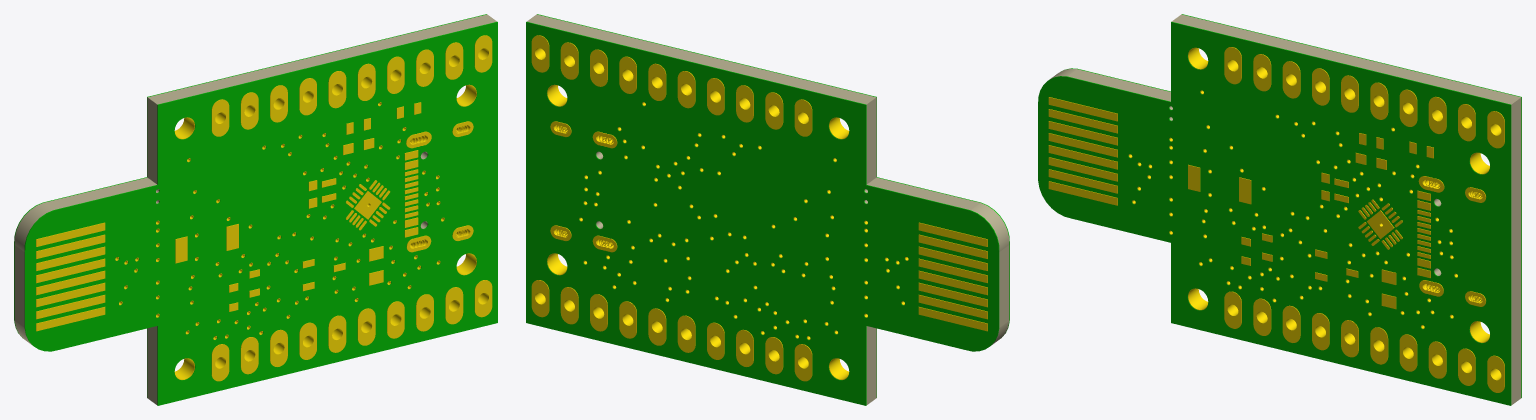
3 renders of one model, left to right at view 1: azimuth 30°, elevation 25°; view 2: azimuth 150°, elevation 25°; view 3: azimuth 330°, elevation 25°, orthographic.
Parts seen in each view (by area): view 1: Body1:2, Body3, Body2, Board, CopperHoles, Body1:3, Body1, Body4; view 2: Body1:3, Body2:1, Board, Body6, CopperHoles, Body1:2, Body1:1, Body4:1; view 3: Body1:2, Body3, Body2, Board, CopperHoles, Body1:3, Body1, Body4.
Boxes of the visible parts, x1,y1,x2,y2 form: Body1:2: [24, 21, 497, 405]; Body3: [211, 35, 492, 381]; Body2: [36, 102, 473, 331]; Board: [14, 14, 496, 404]; CopperHoles: [115, 48, 488, 379]; Body1:3: [14, 14, 486, 397]; Body1: [115, 51, 488, 368]; Body4: [119, 65, 476, 379]; Body1:3: [526, 21, 999, 405]; Body2:1: [531, 35, 812, 381]; Board: [527, 14, 1009, 404]; Body6: [918, 222, 987, 331]; CopperHoles: [535, 48, 908, 379]; Body1:2: [537, 14, 1009, 397]; Body1:1: [535, 51, 908, 368]; Body4:1: [547, 65, 904, 379]; Body1:2: [1038, 21, 1511, 405]; Body3: [1224, 47, 1504, 392]; Body2: [1048, 97, 1485, 309]; Board: [1049, 14, 1521, 405]; CopperHoles: [1129, 48, 1501, 379]; Body1:3: [1061, 14, 1521, 397]; Body1: [1128, 62, 1497, 379]; Body4: [1132, 47, 1489, 342].
Bounding box in the file's own units: 4.11 × 2.5 × 0.1761.
